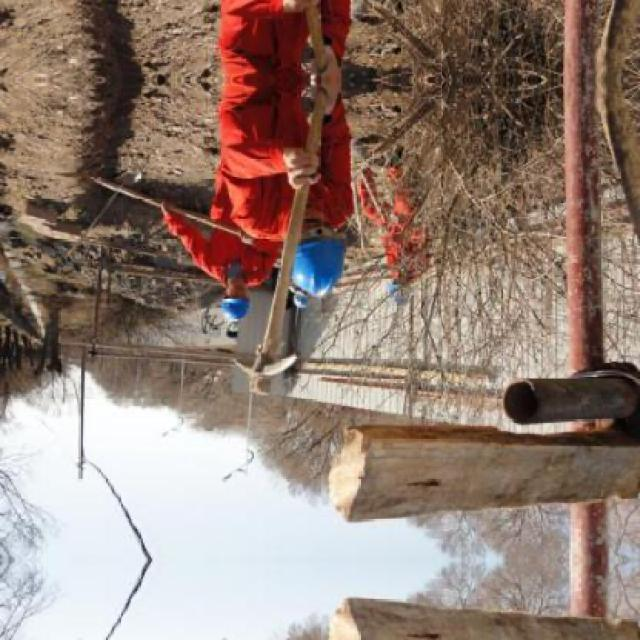con casco: (270, 214, 359, 312), (195, 275, 264, 339), (376, 265, 428, 320)
